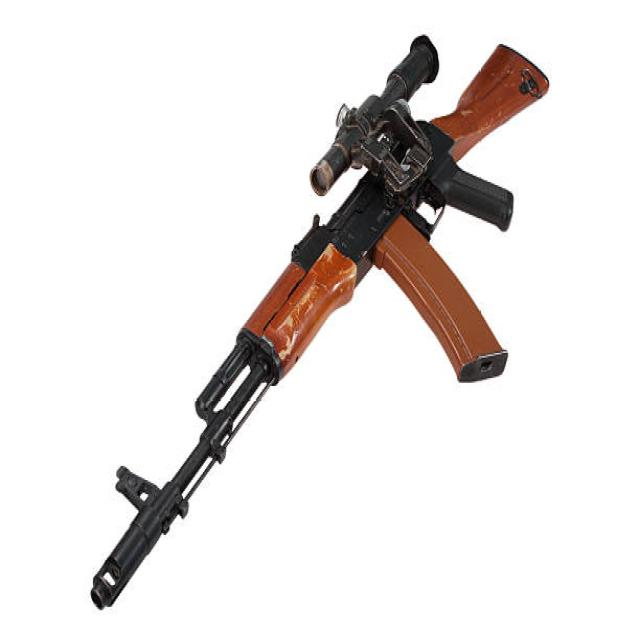rifle: (88, 17, 552, 619)
